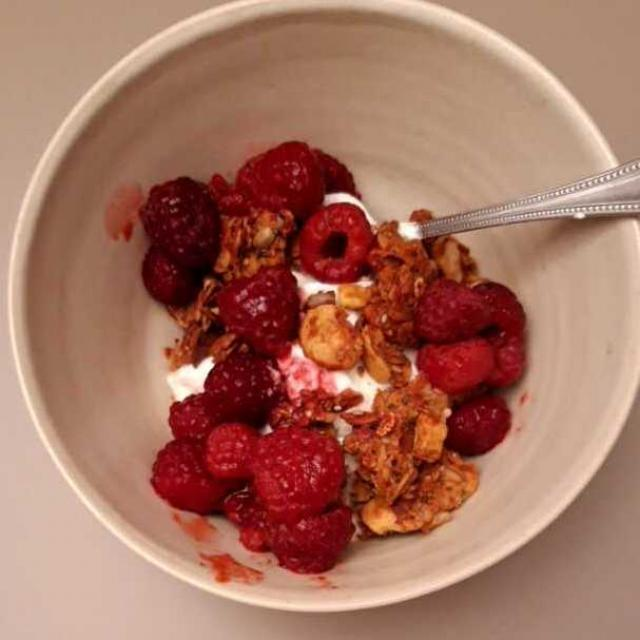raspberries: (135, 152, 511, 568)
